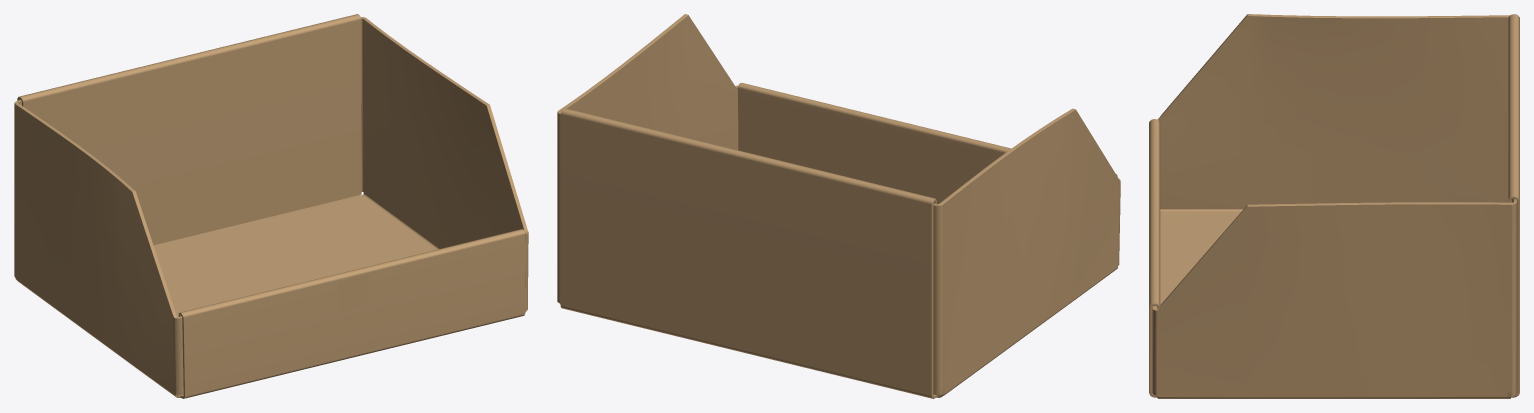
Rendered from box_cardboard_open_a02.glb.
3 renders of one model, left to right at view 1: azimuth 30°, elevation 25°; view 2: azimuth 150°, elevation 25°; view 3: azimuth 270°, elevation 25°, orthographic. The views are drawn at different scales.
Bounding box in the file's own units: 0.6207 × 0.3024 × 0.5053.
